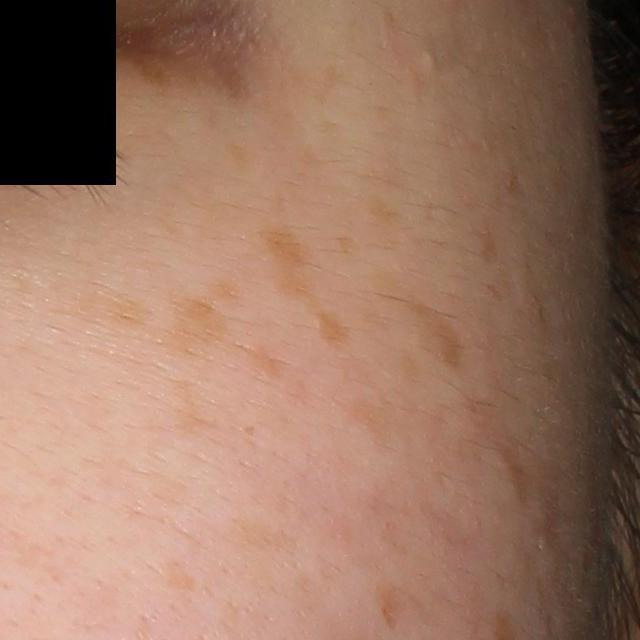comedo: (421, 50, 439, 69)
melasma: (261, 227, 341, 357), (138, 46, 267, 107), (170, 298, 232, 369), (227, 514, 307, 563), (410, 309, 465, 371), (342, 394, 395, 453), (175, 375, 215, 441), (224, 342, 283, 384), (366, 188, 399, 254), (478, 230, 499, 270)
